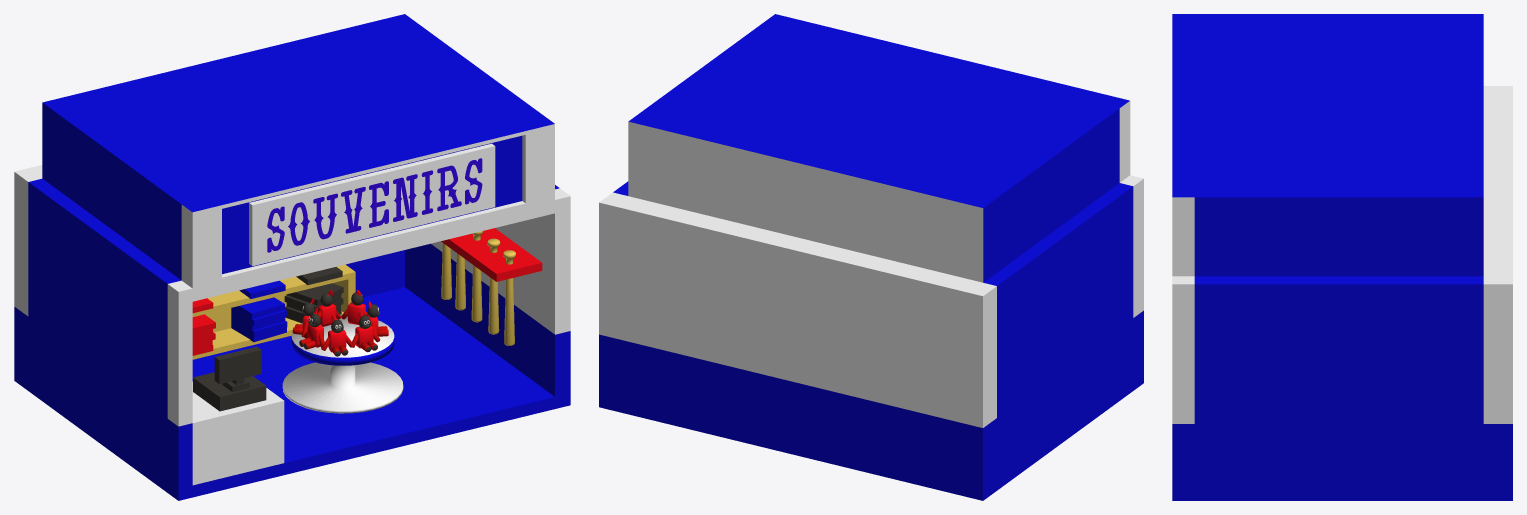
Rendered from SouvenirStand.fbx.
3 views of the same model, side by side, from view 1: azimuth 30°, elevation 25°; view 2: azimuth 150°, elevation 25°; view 3: azimuth 270°, elevation 25° (orthographic). The views are drawn at different scales.
Parts seen in each view (by area): view 1: Cube, Text; view 2: Cube; view 3: Cube.
Boxes of the visible parts, x1=… form: Cube: x1=14, y1=14, x2=570, y2=500; Text: x1=267, y1=158, x2=482, y2=252; Cube: x1=599, y1=14, x2=1143, y2=500; Cube: x1=1172, y1=14, x2=1512, y2=500.
Bounding box in the file's own units: 1707 × 1186 × 1239.
